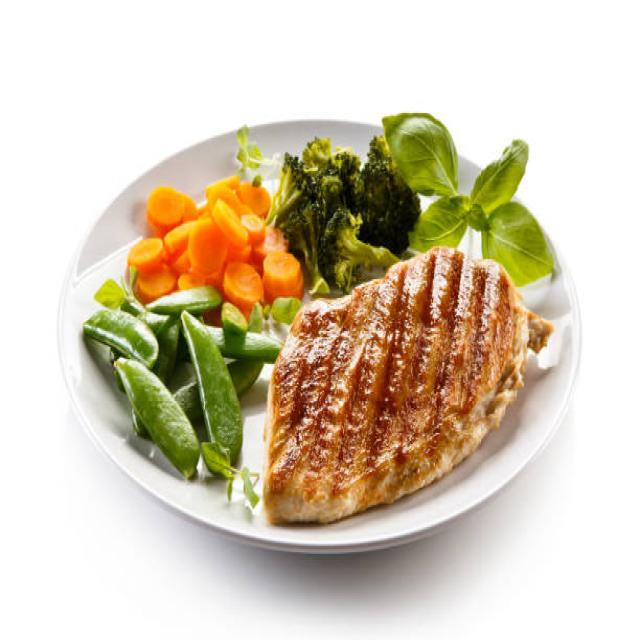Frango: (262, 243, 556, 527)
